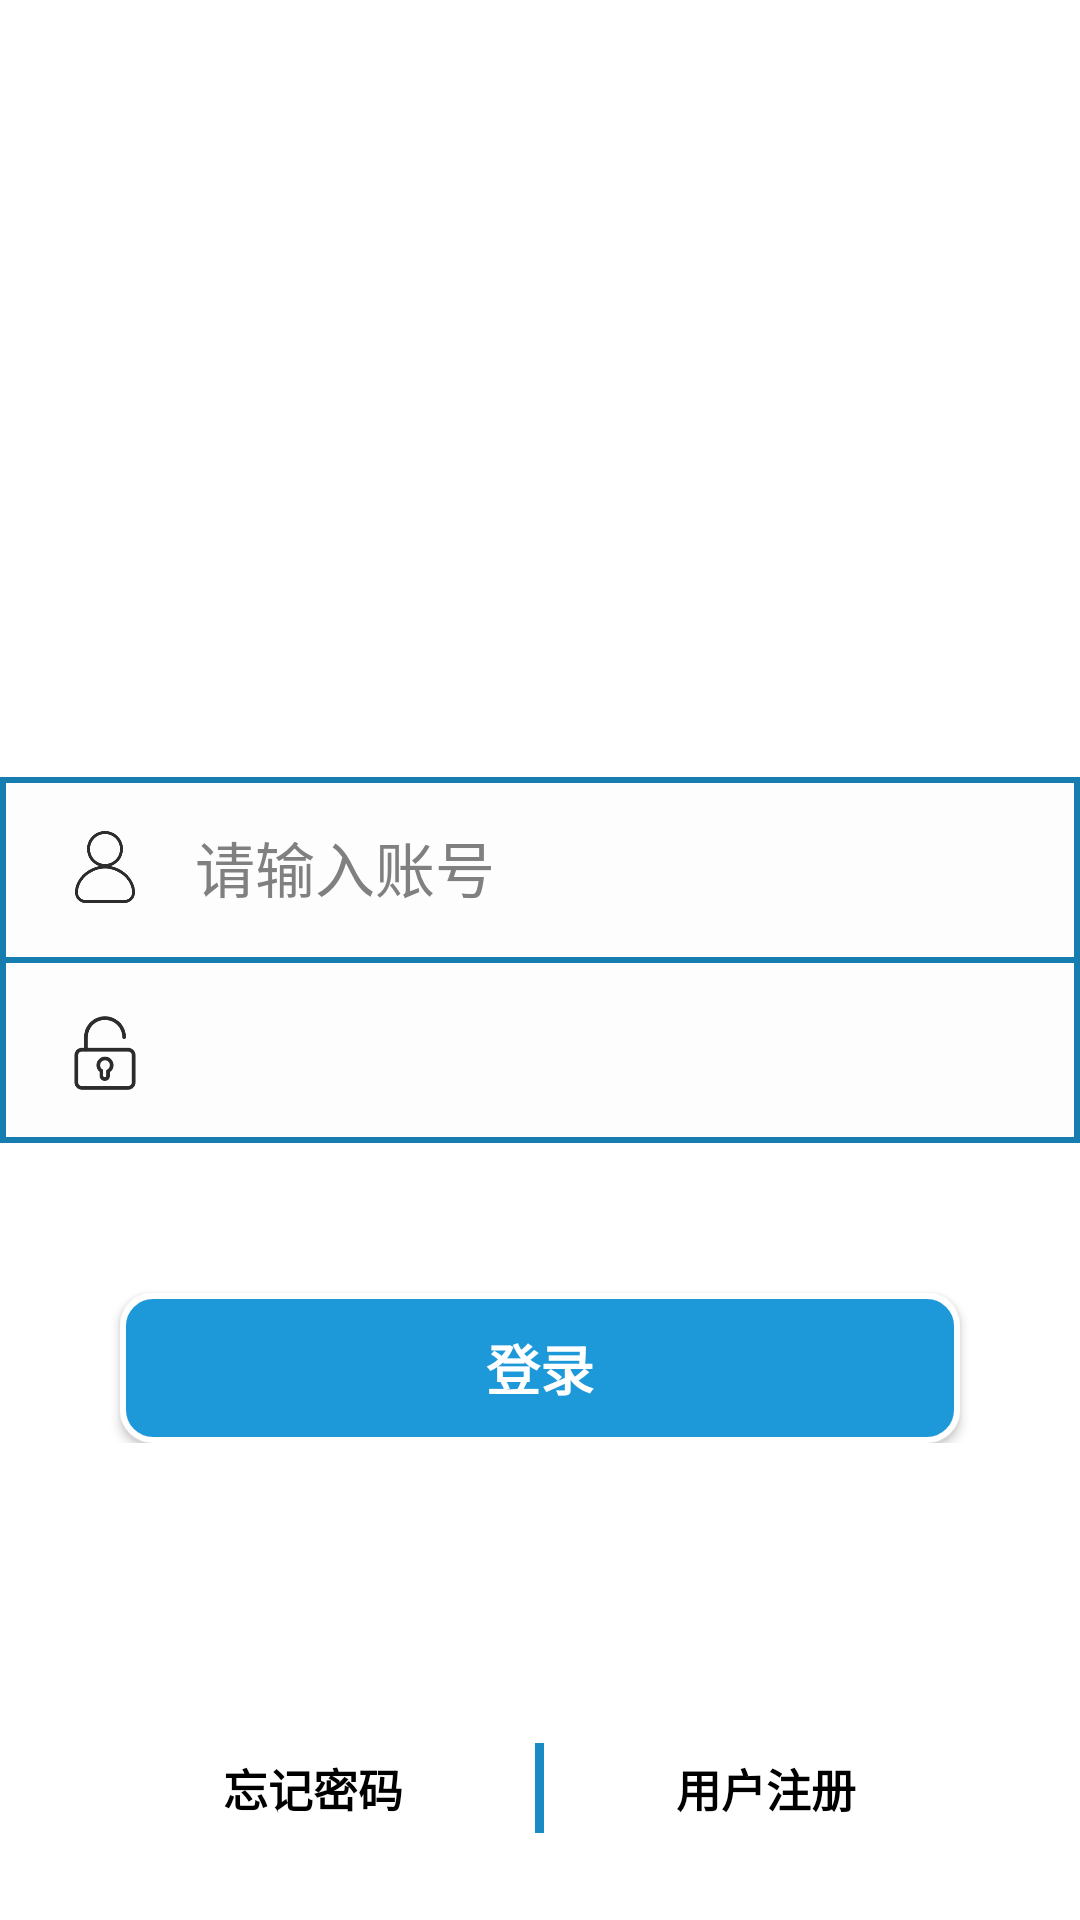

Screen size 1080px x 1920px. Icon name, then its center in pixels as [x,y]:
password: [105,1053]
user: [105,867]
